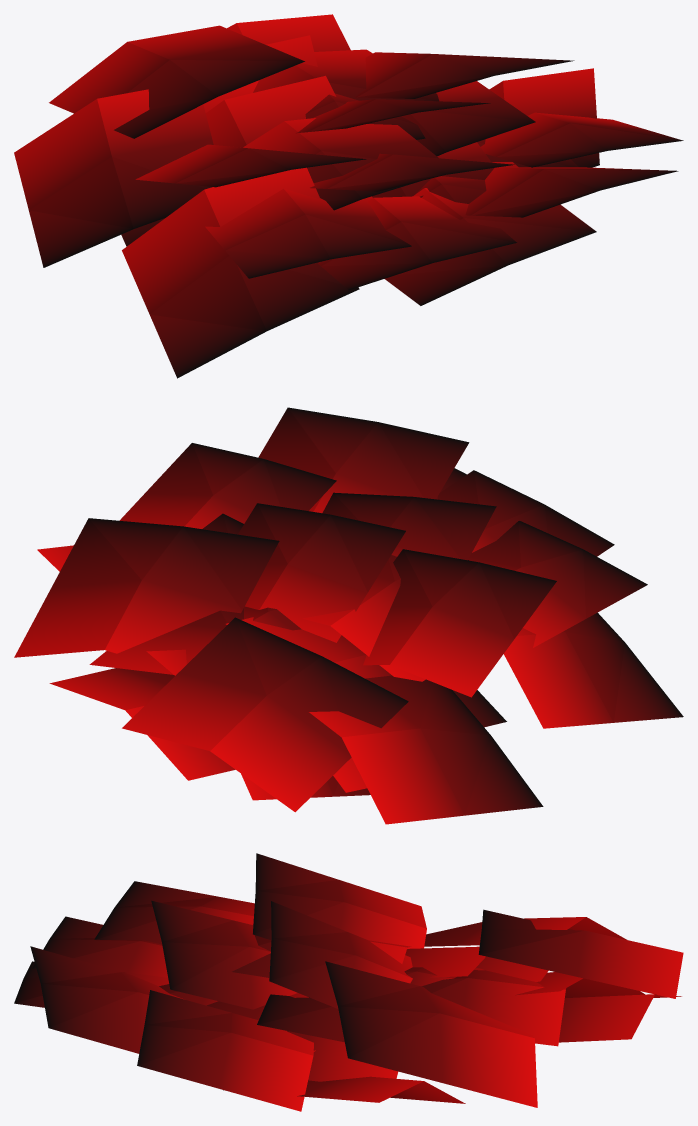
The model's file is IvyTop01.fbx.
3 views of the same model, one above another, from view 1: azimuth 30°, elevation 25°; view 2: azimuth 150°, elevation 25°; view 3: azimuth 270°, elevation 25° (orthographic). The views are drawn at different scales.
Parts seen in each view (by area): view 1: transform41; view 2: transform41; view 3: transform41.
Boxes of the visible parts, box(x1,y1,x2,y2) form: transform41: box(14, 14, 683, 378); transform41: box(14, 407, 683, 824); transform41: box(14, 853, 683, 1111).
Size of the model in its own units: 174 by 51.58 by 192.
